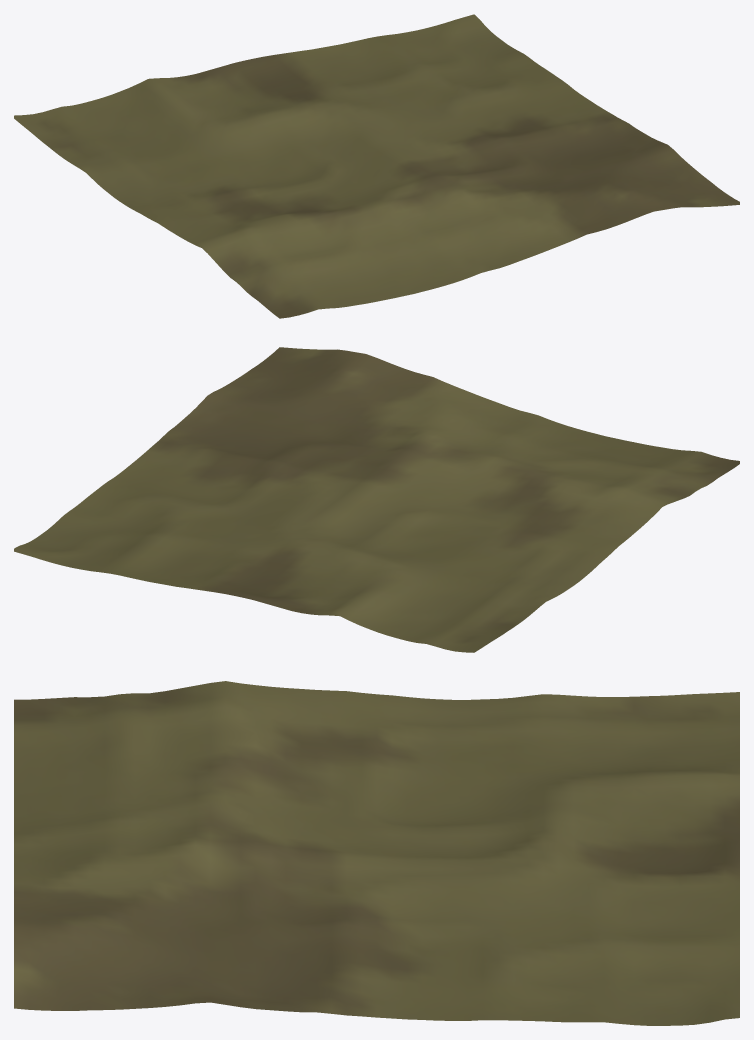
File: land_m_01_05.glb
3 views of the same model, one above another, from view 1: azimuth 30°, elevation 25°; view 2: azimuth 150°, elevation 25°; view 3: azimuth 270°, elevation 25° (orthographic). The views are drawn at different scales.
Visible parts, largest first — view 1: land_m_01_05; view 2: land_m_01_05; view 3: land_m_01_05.
Boxes of the visible parts, x1=… form: land_m_01_05: x1=14, y1=14, x2=739, y2=318; land_m_01_05: x1=14, y1=347, x2=739, y2=652; land_m_01_05: x1=14, y1=681, x2=739, y2=1025.
Bounding box in the file's own units: 960 × 64.07 × 960.
